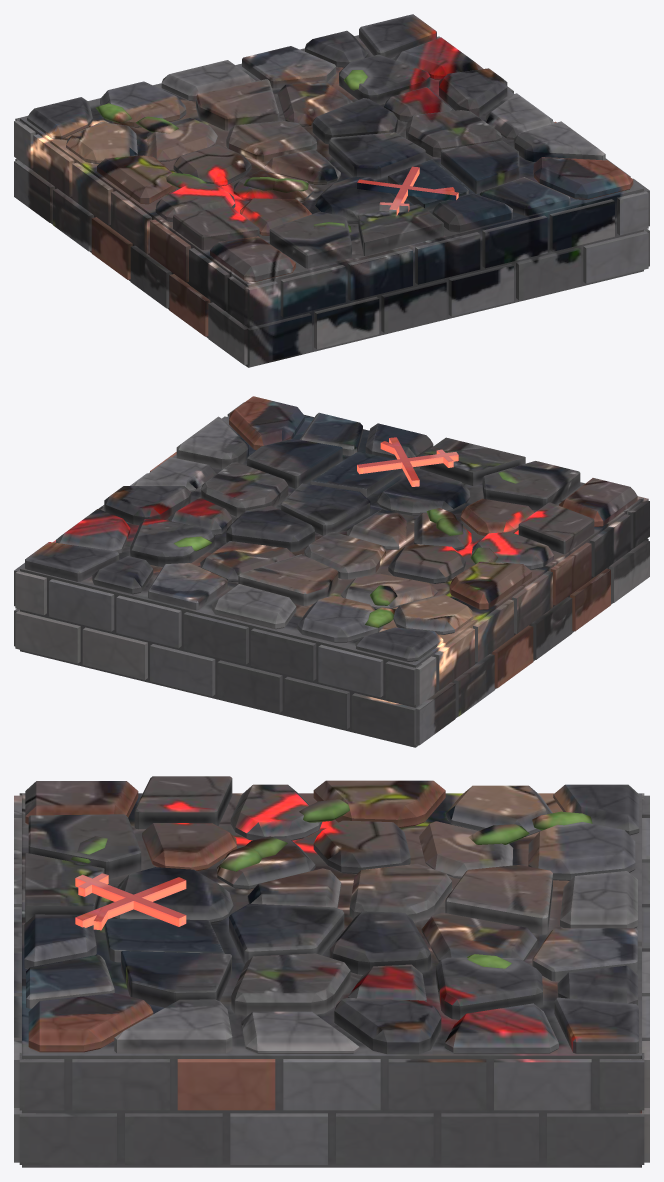
File: bolt_plate.glb
3 renders of one model, top to bottom at view 1: azimuth 30°, elevation 25°; view 2: azimuth 150°, elevation 25°; view 3: azimuth 270°, elevation 25°, orthographic. The views are drawn at different scales.
Parts seen in each view (by area): view 1: bolt_plate; view 2: bolt_plate; view 3: bolt_plate.
Boxes of the visible parts, box(x1,y1,x2,y2) form: bolt_plate: box(14, 14, 649, 367); bolt_plate: box(14, 396, 649, 747); bolt_plate: box(14, 776, 649, 1167).
Bounding box in the file's own units: 2.01 × 0.484 × 2.01.
1 material, 1 textured.
